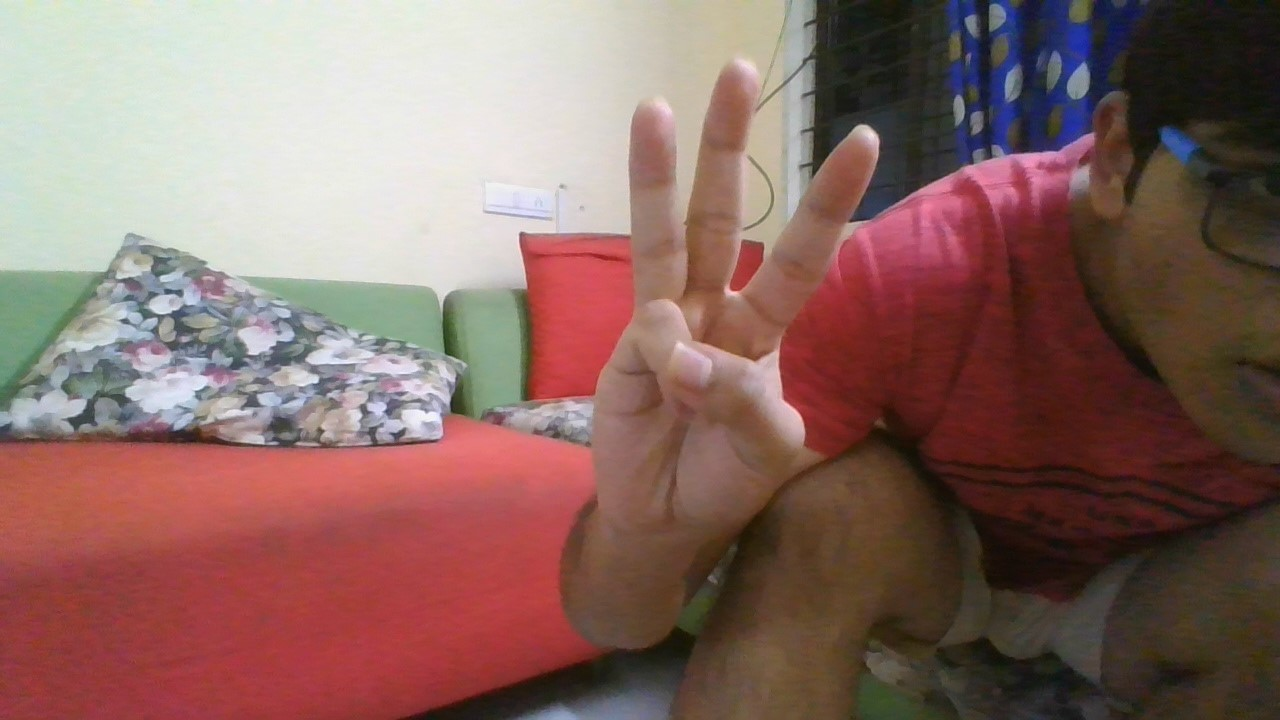w: (590, 54, 884, 553)
